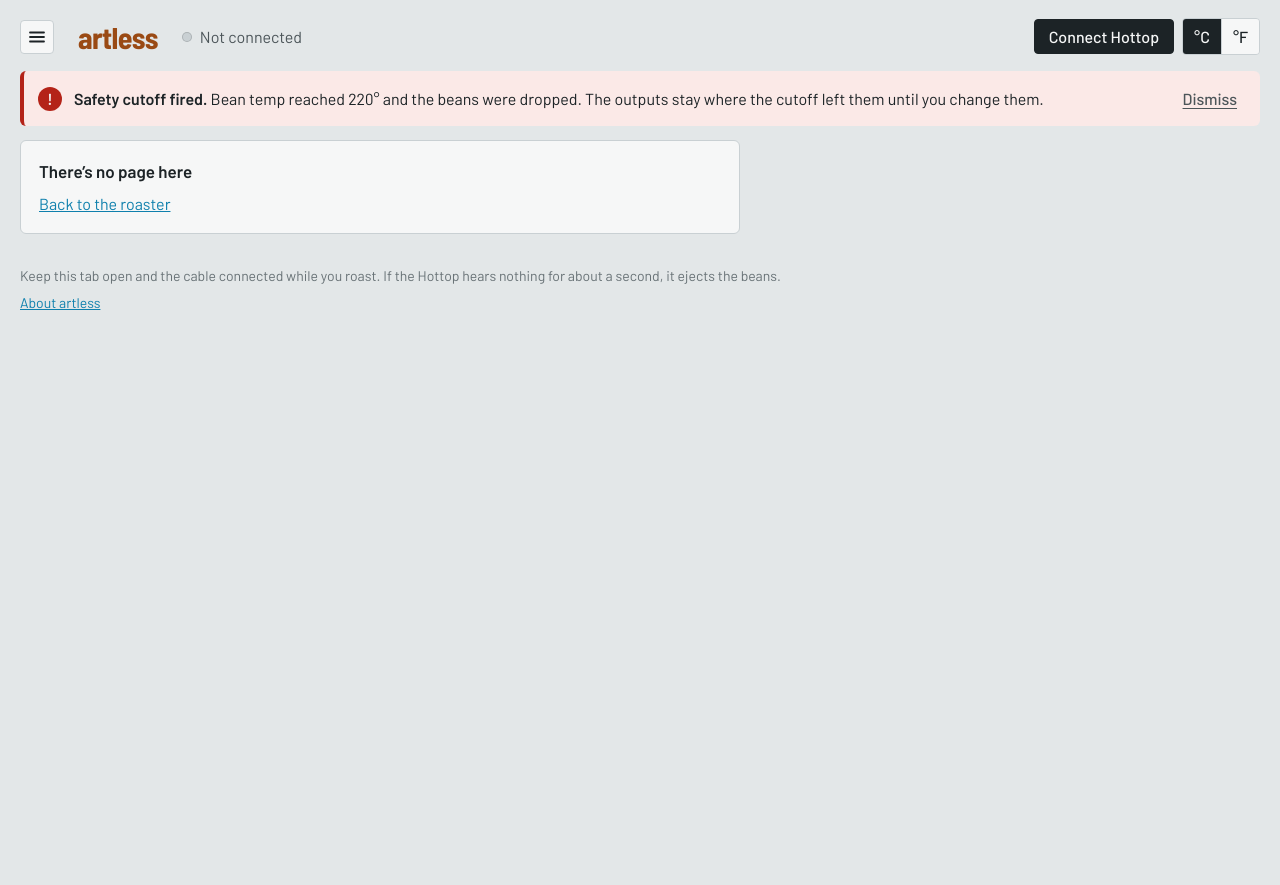
Test: pages › says when there is no page at an address, and the wordmark leads back to the roaster
This screenshot has width=1280, height=885.
Expected: the heading "There’s no page here" is shown, [39, 161, 192, 181]
Click the link "artless" at [118, 37], box [78, 19, 158, 55]
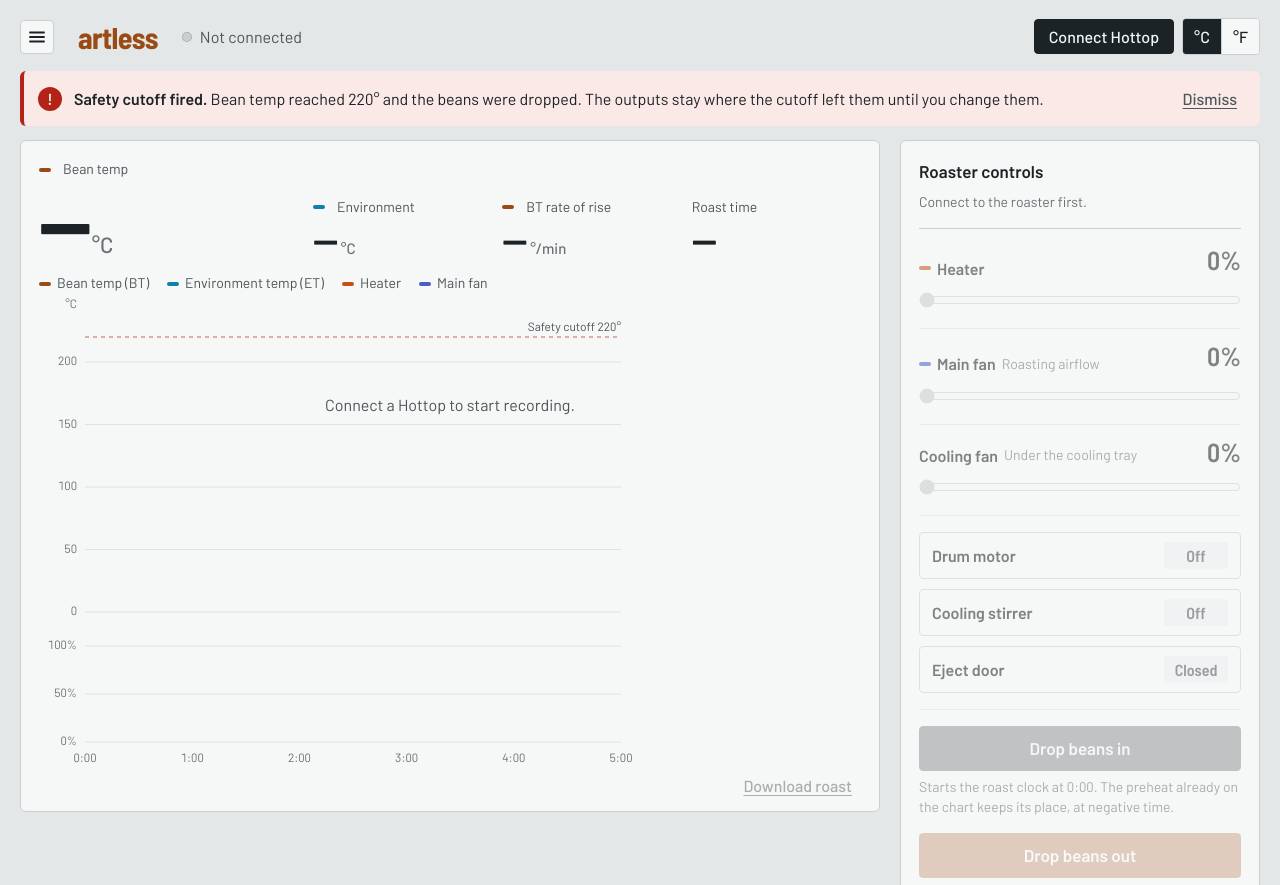
Expected: the element "Roast" is shown, [20, 140, 880, 812]
